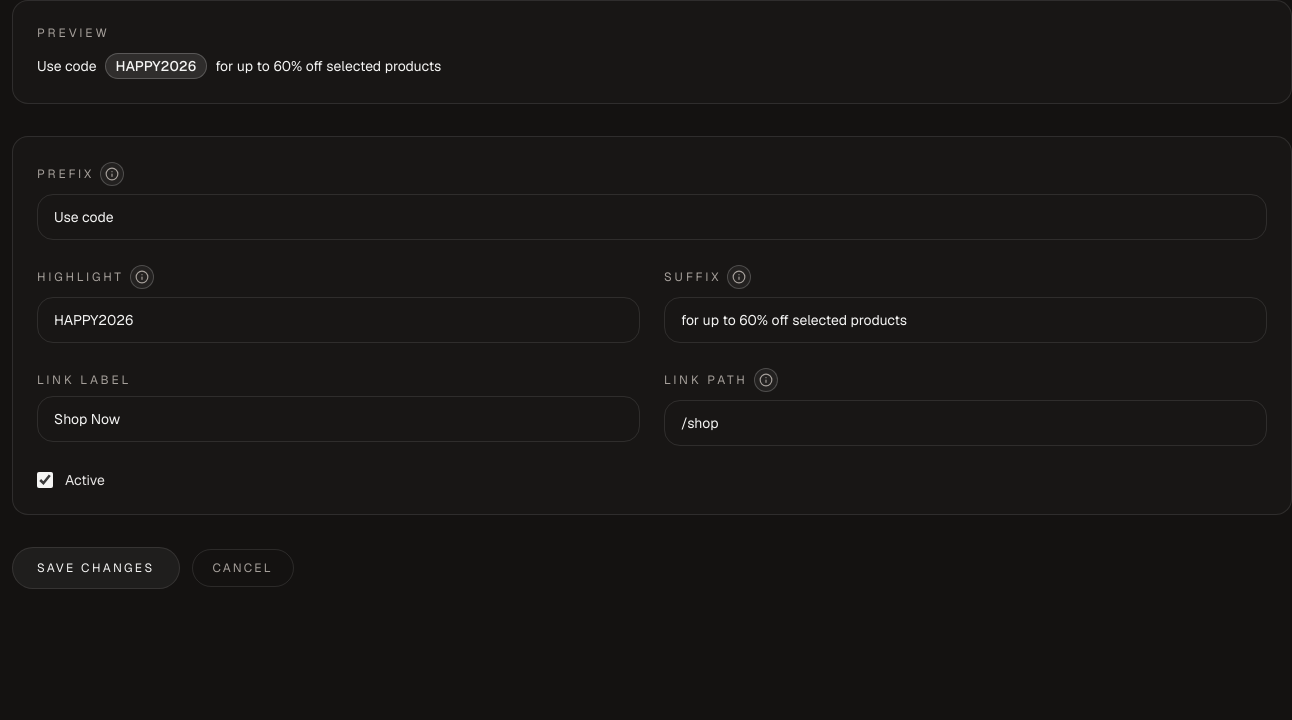
Test: announcement form › feedback › shows a database failure as a generic alert
Step 1. Click the button "Save changes" → (96, 568), box [12,547,180,589]
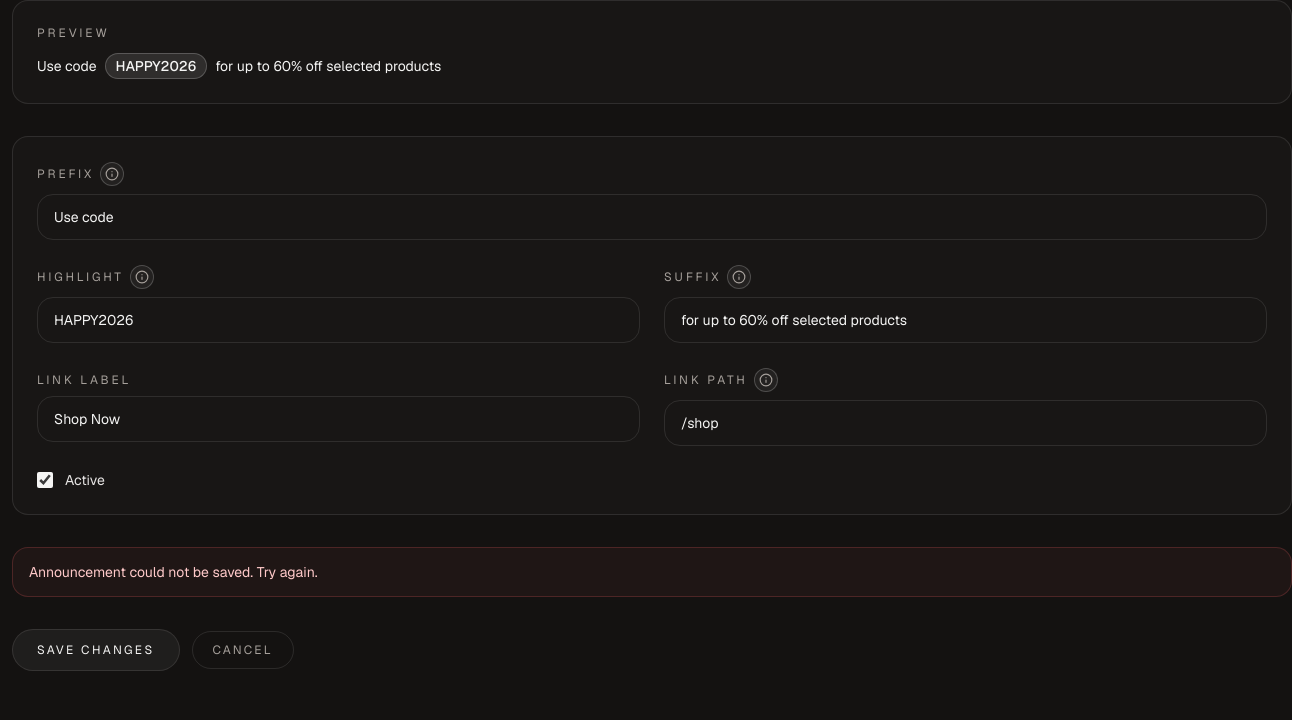
Now the message shows "Announcement could not be saved.", box [29,563,318,581]
